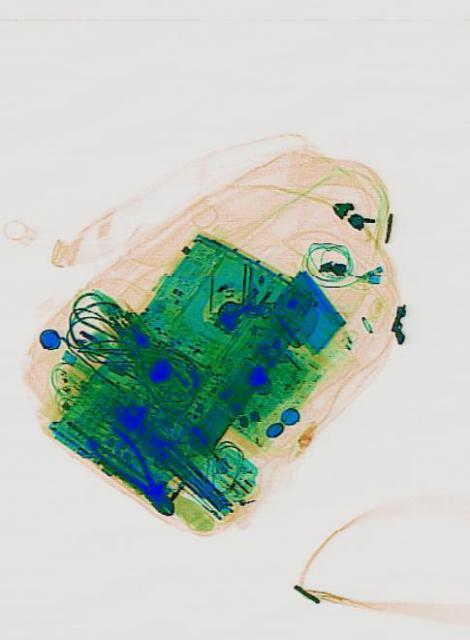Pliers: (83, 412, 182, 528)
